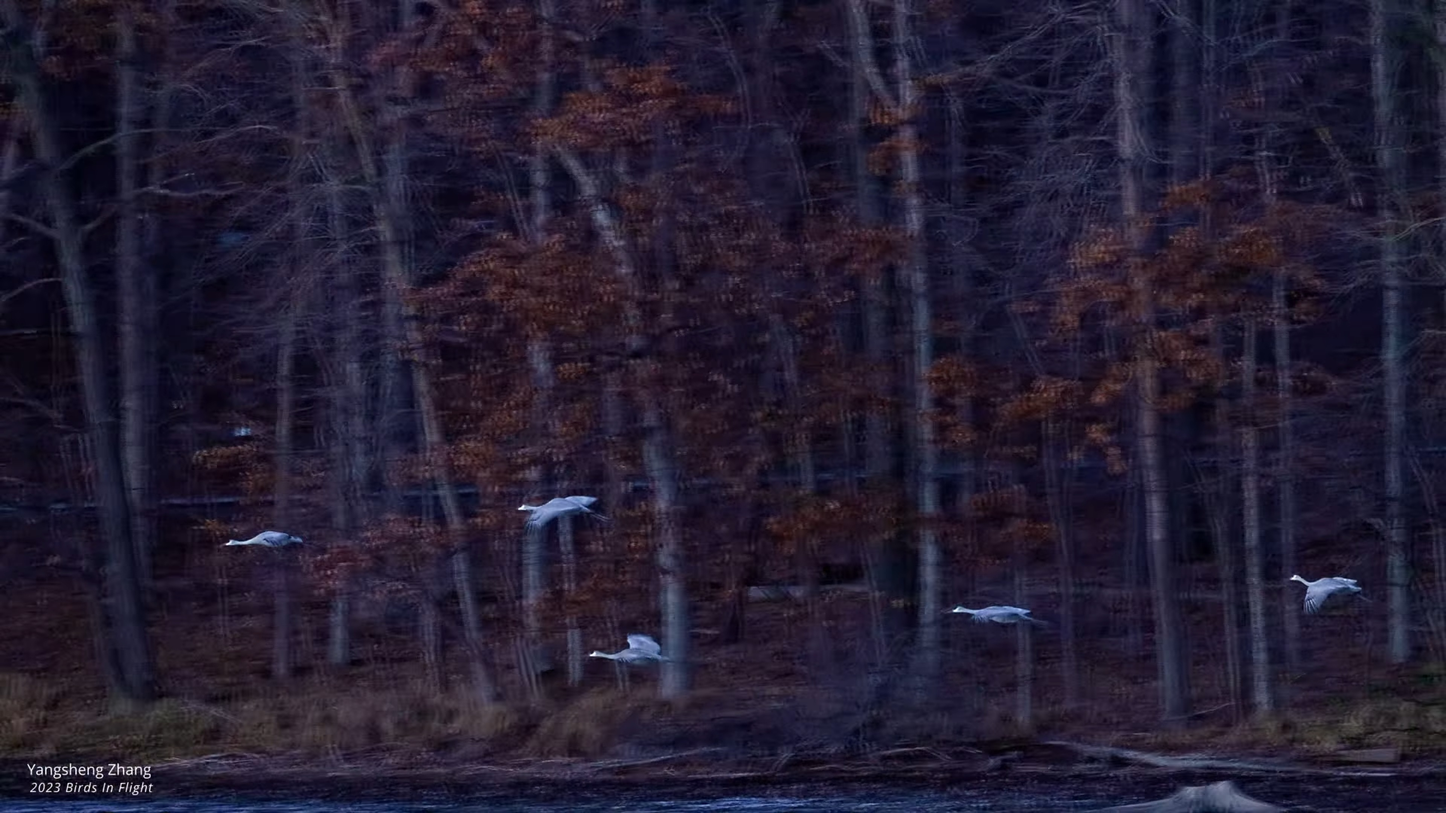not_drone: (1279, 559, 1370, 615), (582, 629, 674, 680), (946, 589, 1049, 632), (507, 490, 599, 530), (223, 529, 311, 558)
